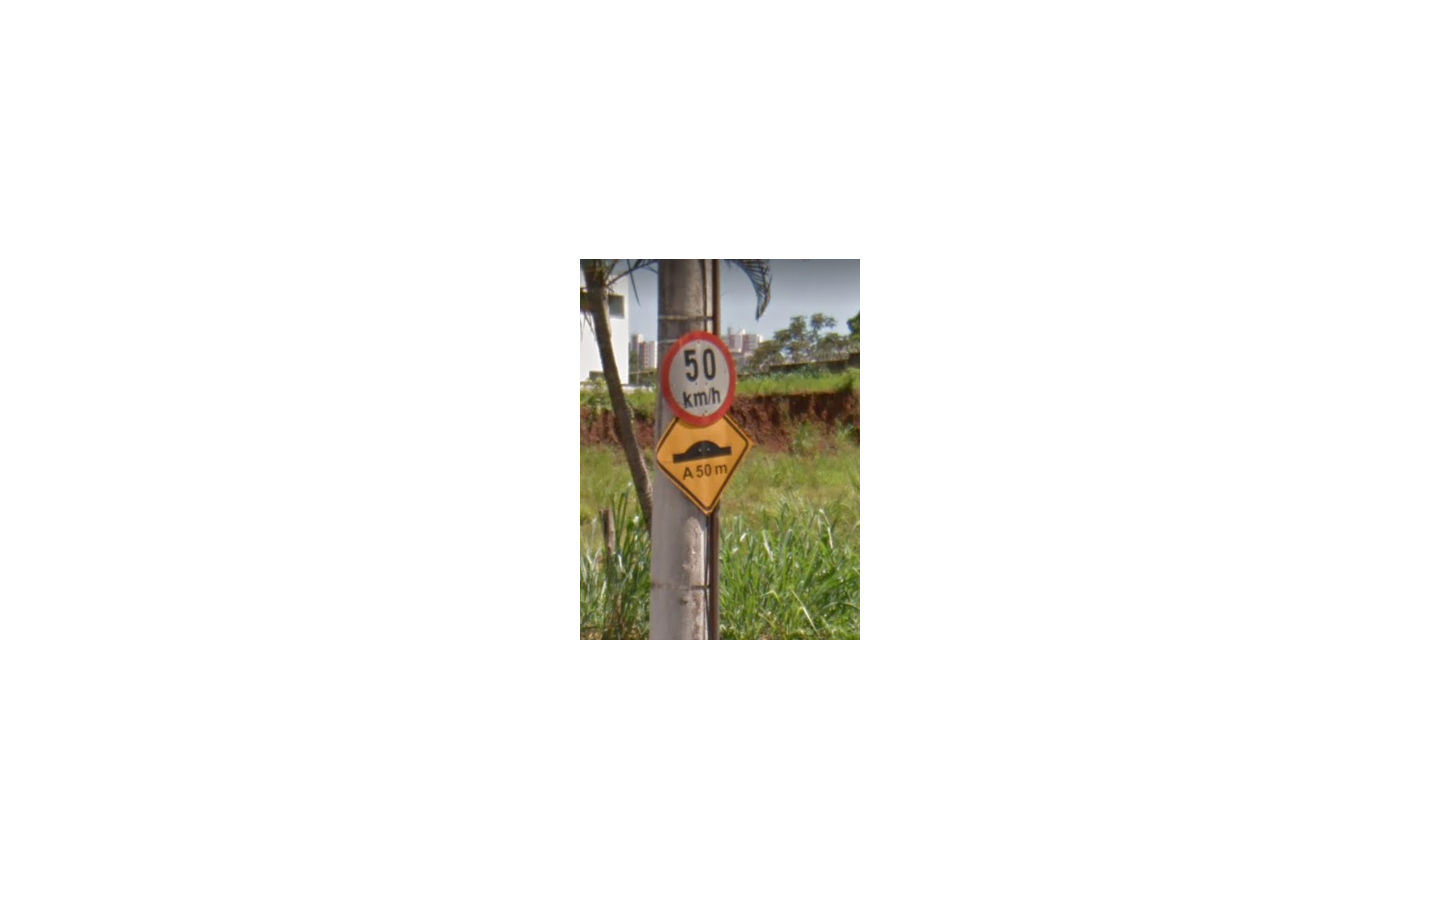l50m: (653, 416, 754, 514)
